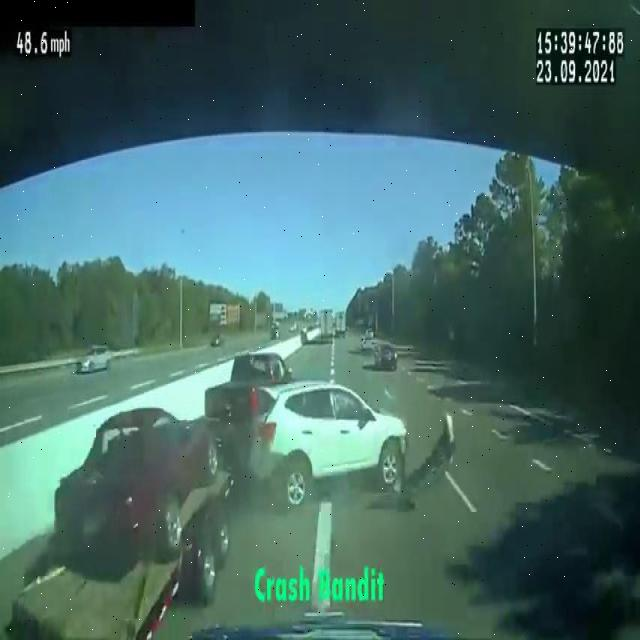moderate: (202, 341, 410, 515)
